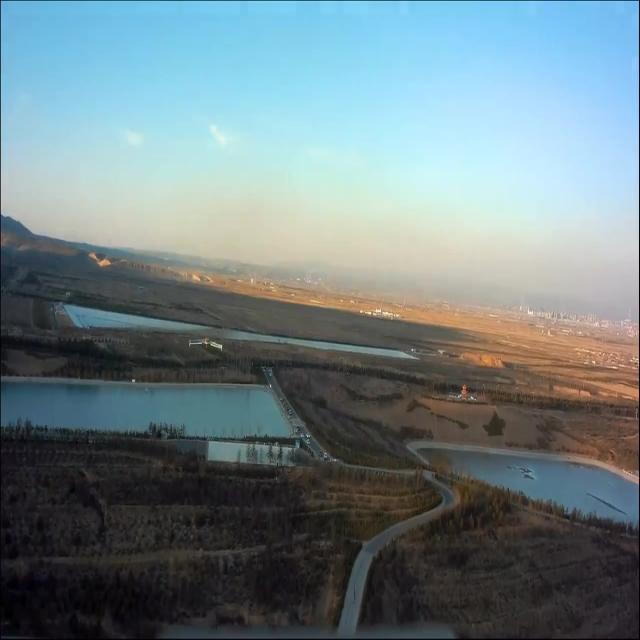iha: (188, 338, 222, 352)
